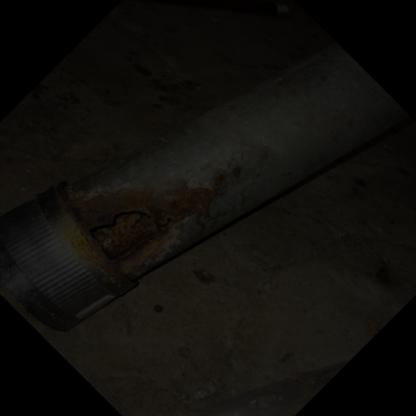burst: (81, 196, 202, 284)
